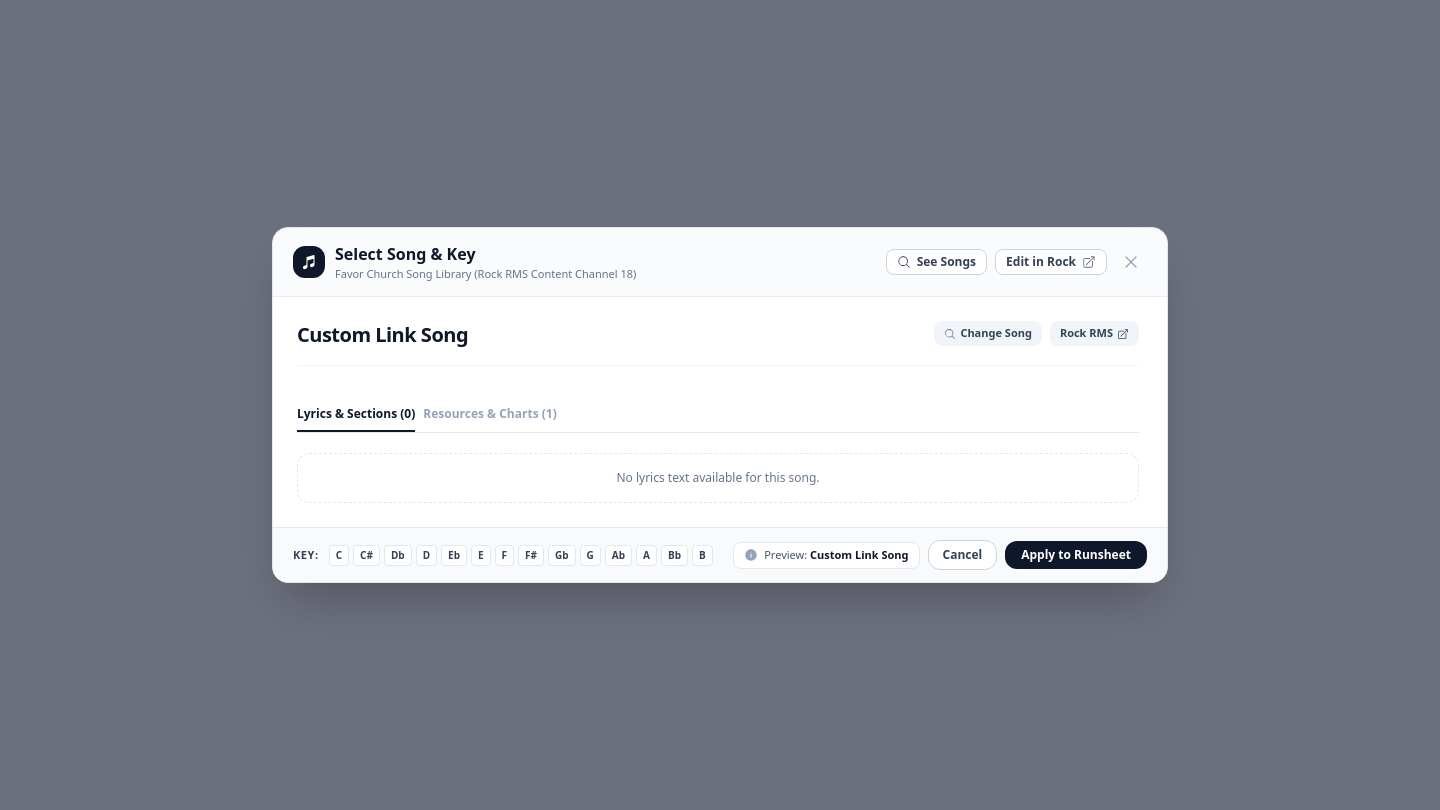
SongDetailModal › fails open cleanly in Resources & Charts tab when video ID is not parseable
Switch to Resources & Charts tab
Step 1. Click the button "Resources & Charts (1)" → (490, 419), box x1=423 y1=406 x2=557 y2=432
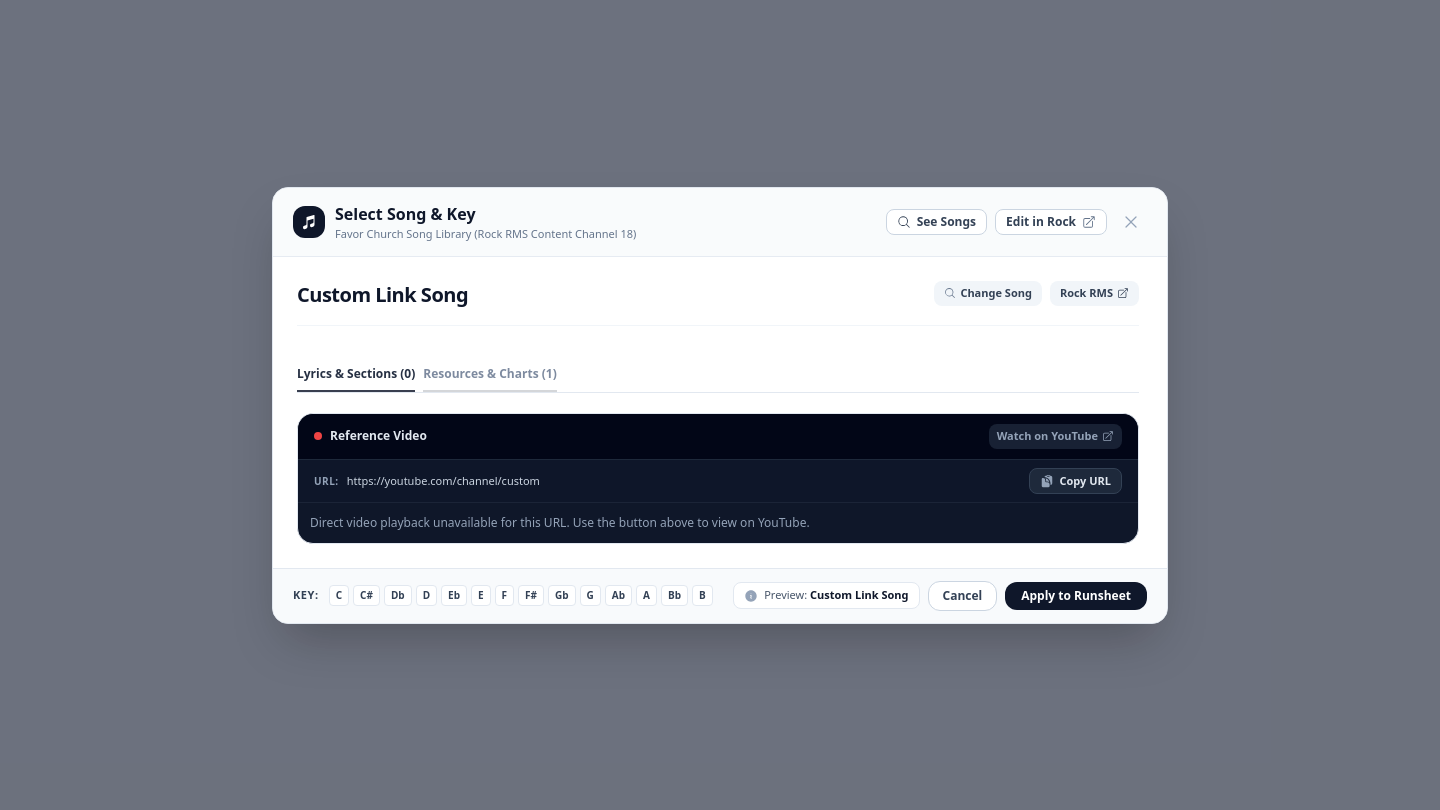
Expected: the text "https://youtube.com/channel/custom" is shown, x1=347 y1=472 x2=540 y2=488
Expected: the text "Watch on YouTube" is shown, x1=997 y1=428 x2=1098 y2=444
Expected: the text "Direct video playback unavailable for this URL" is shown, x1=310 y1=514 x2=810 y2=530
